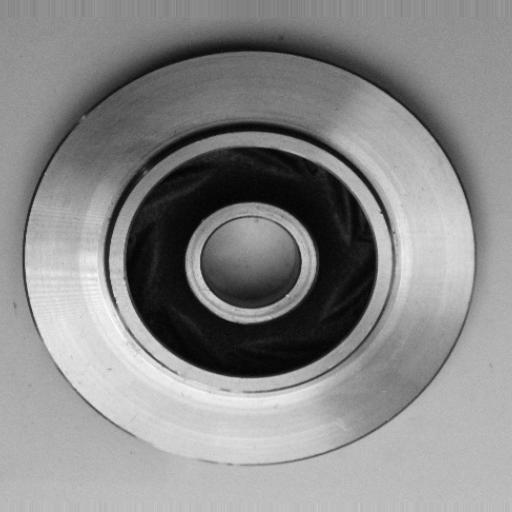scratch: (133, 420, 243, 484), (165, 365, 255, 403)
unpolished_casting: (24, 42, 479, 470)
